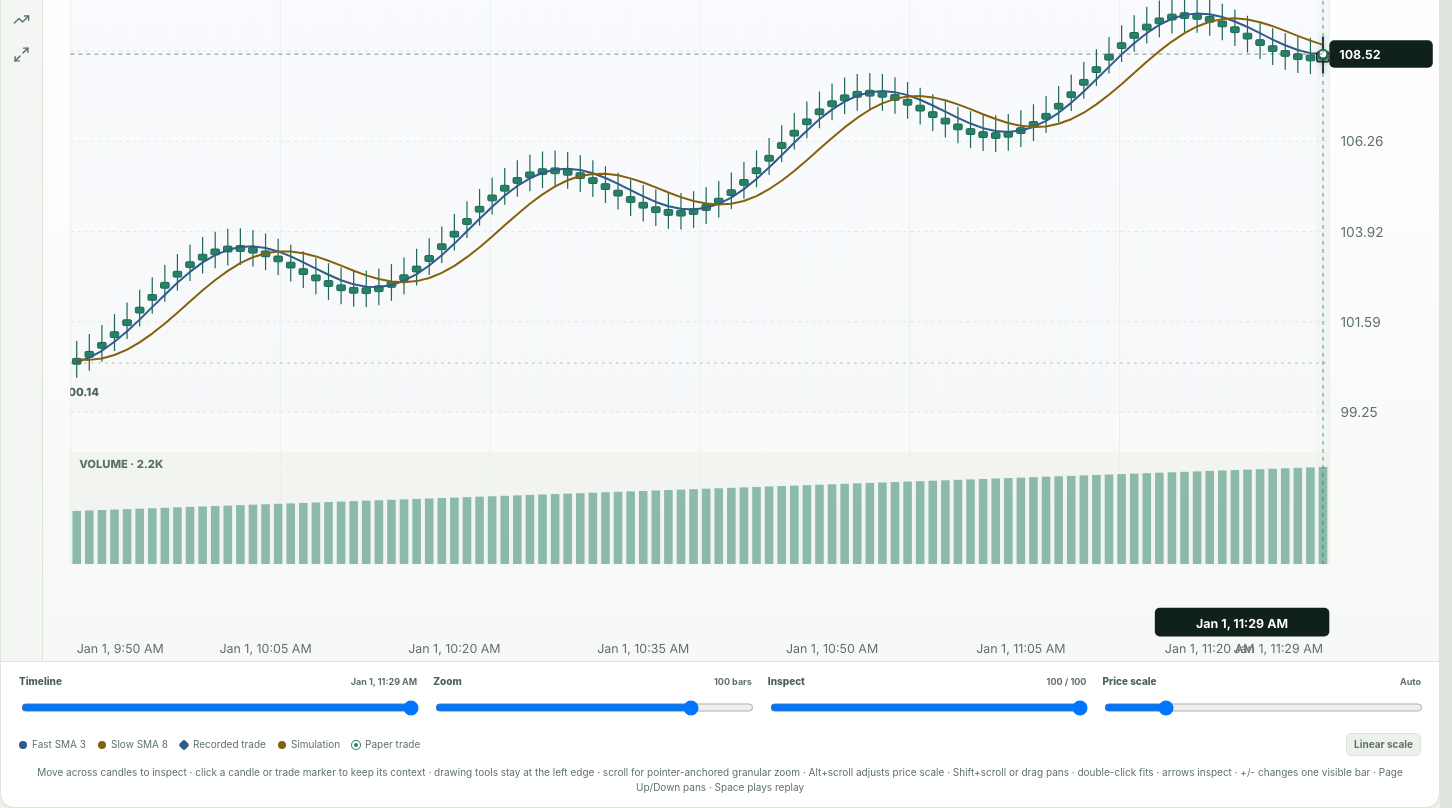
Test: MarketChart › offers independent granular price scaling without changing the timeline
(page scrolled)
Set the slider named "Adjust chart price scale" to "0.5". click: (1125, 708)
box: [1104,696,1423,720]
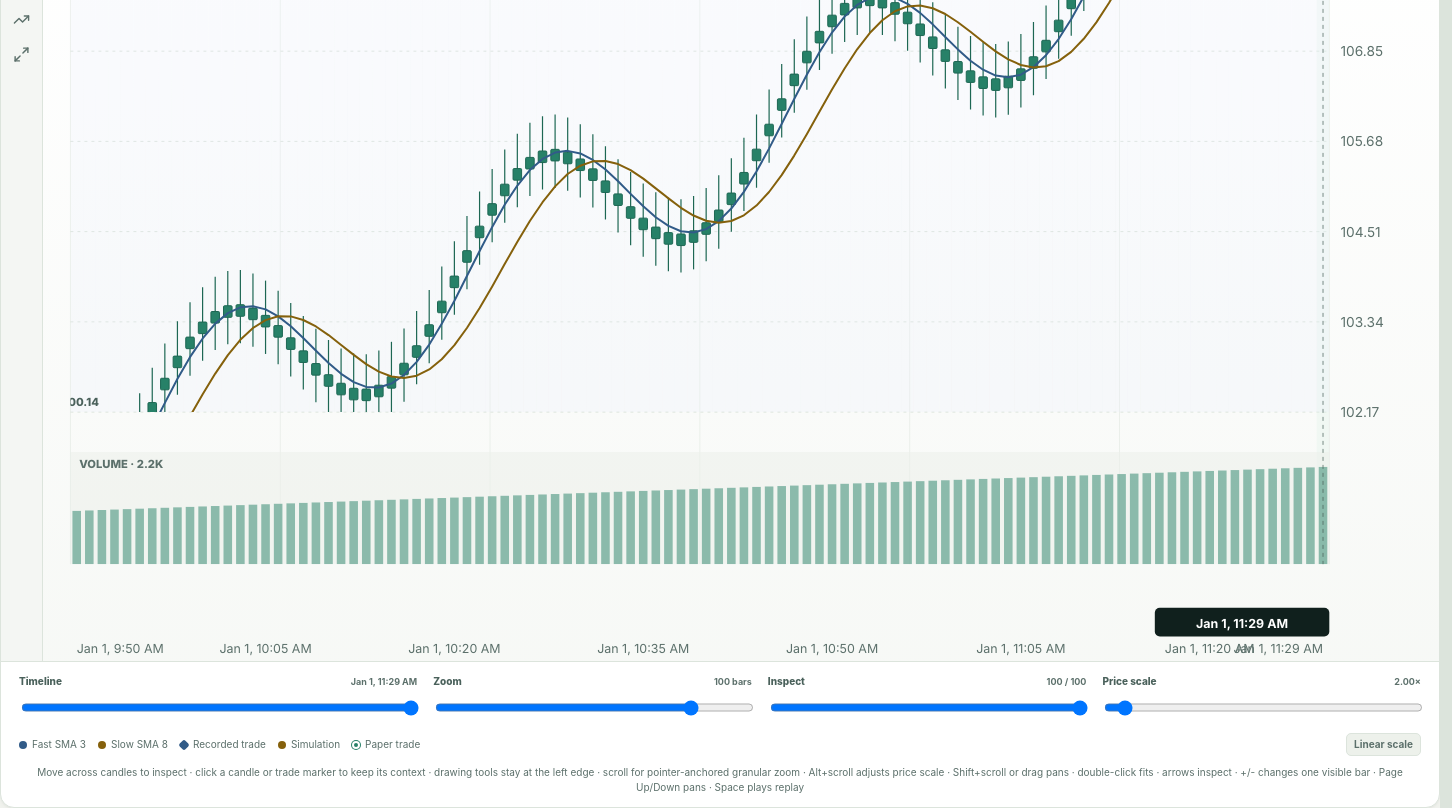
Result: the text "2.00×" is shown at [1394,675,1421,689]
Double-click the slider named "Adjust chart price scale" at (1264, 708), box [1104,696,1423,720]
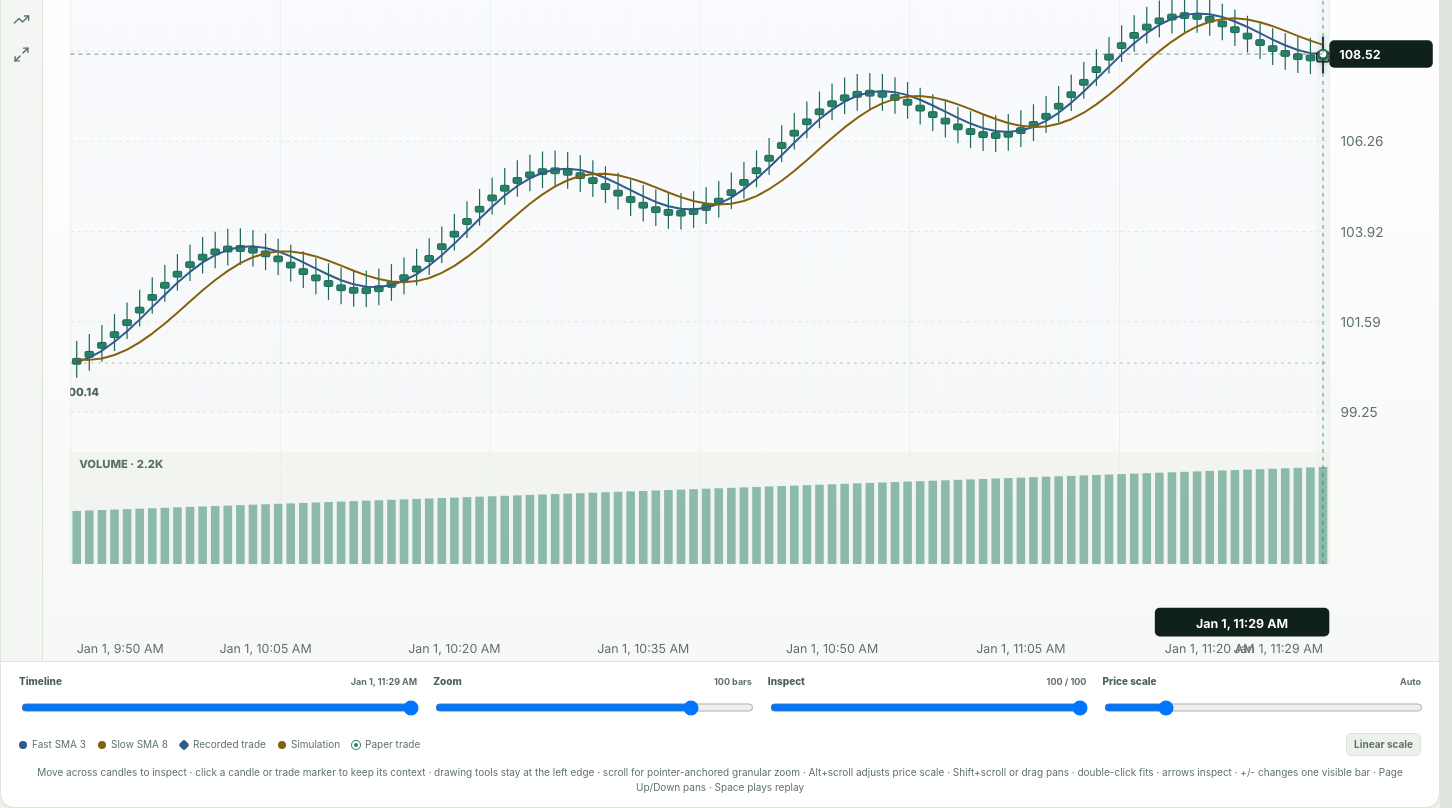
Result: the text "Auto" is shown at [1400,675,1421,689]
